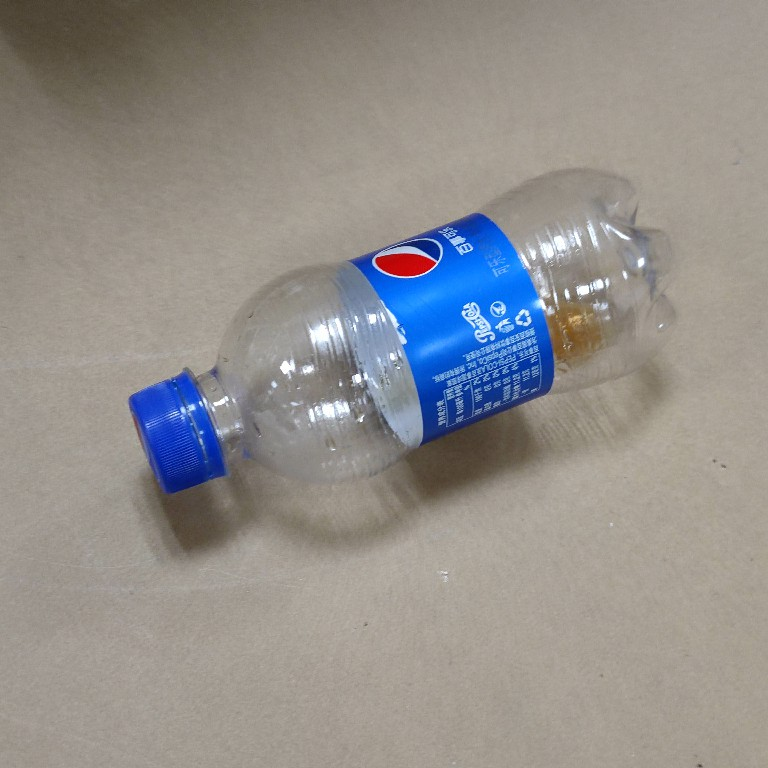bottle: (123, 162, 686, 500)
